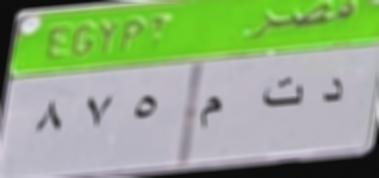5: (128, 90, 161, 125)
7: (82, 90, 114, 132)
8: (34, 97, 66, 135)
daal: (320, 74, 346, 106)
meem: (196, 94, 225, 134)
taa: (255, 76, 306, 112)
